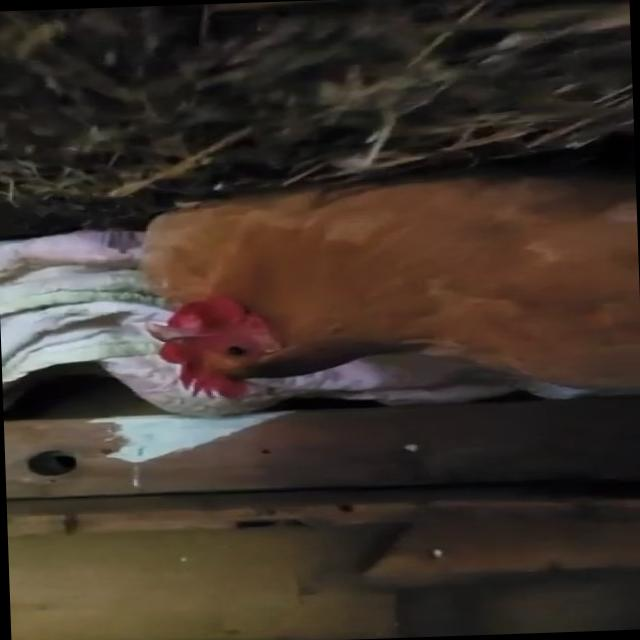sleeping chickens: (125, 118, 640, 426)
